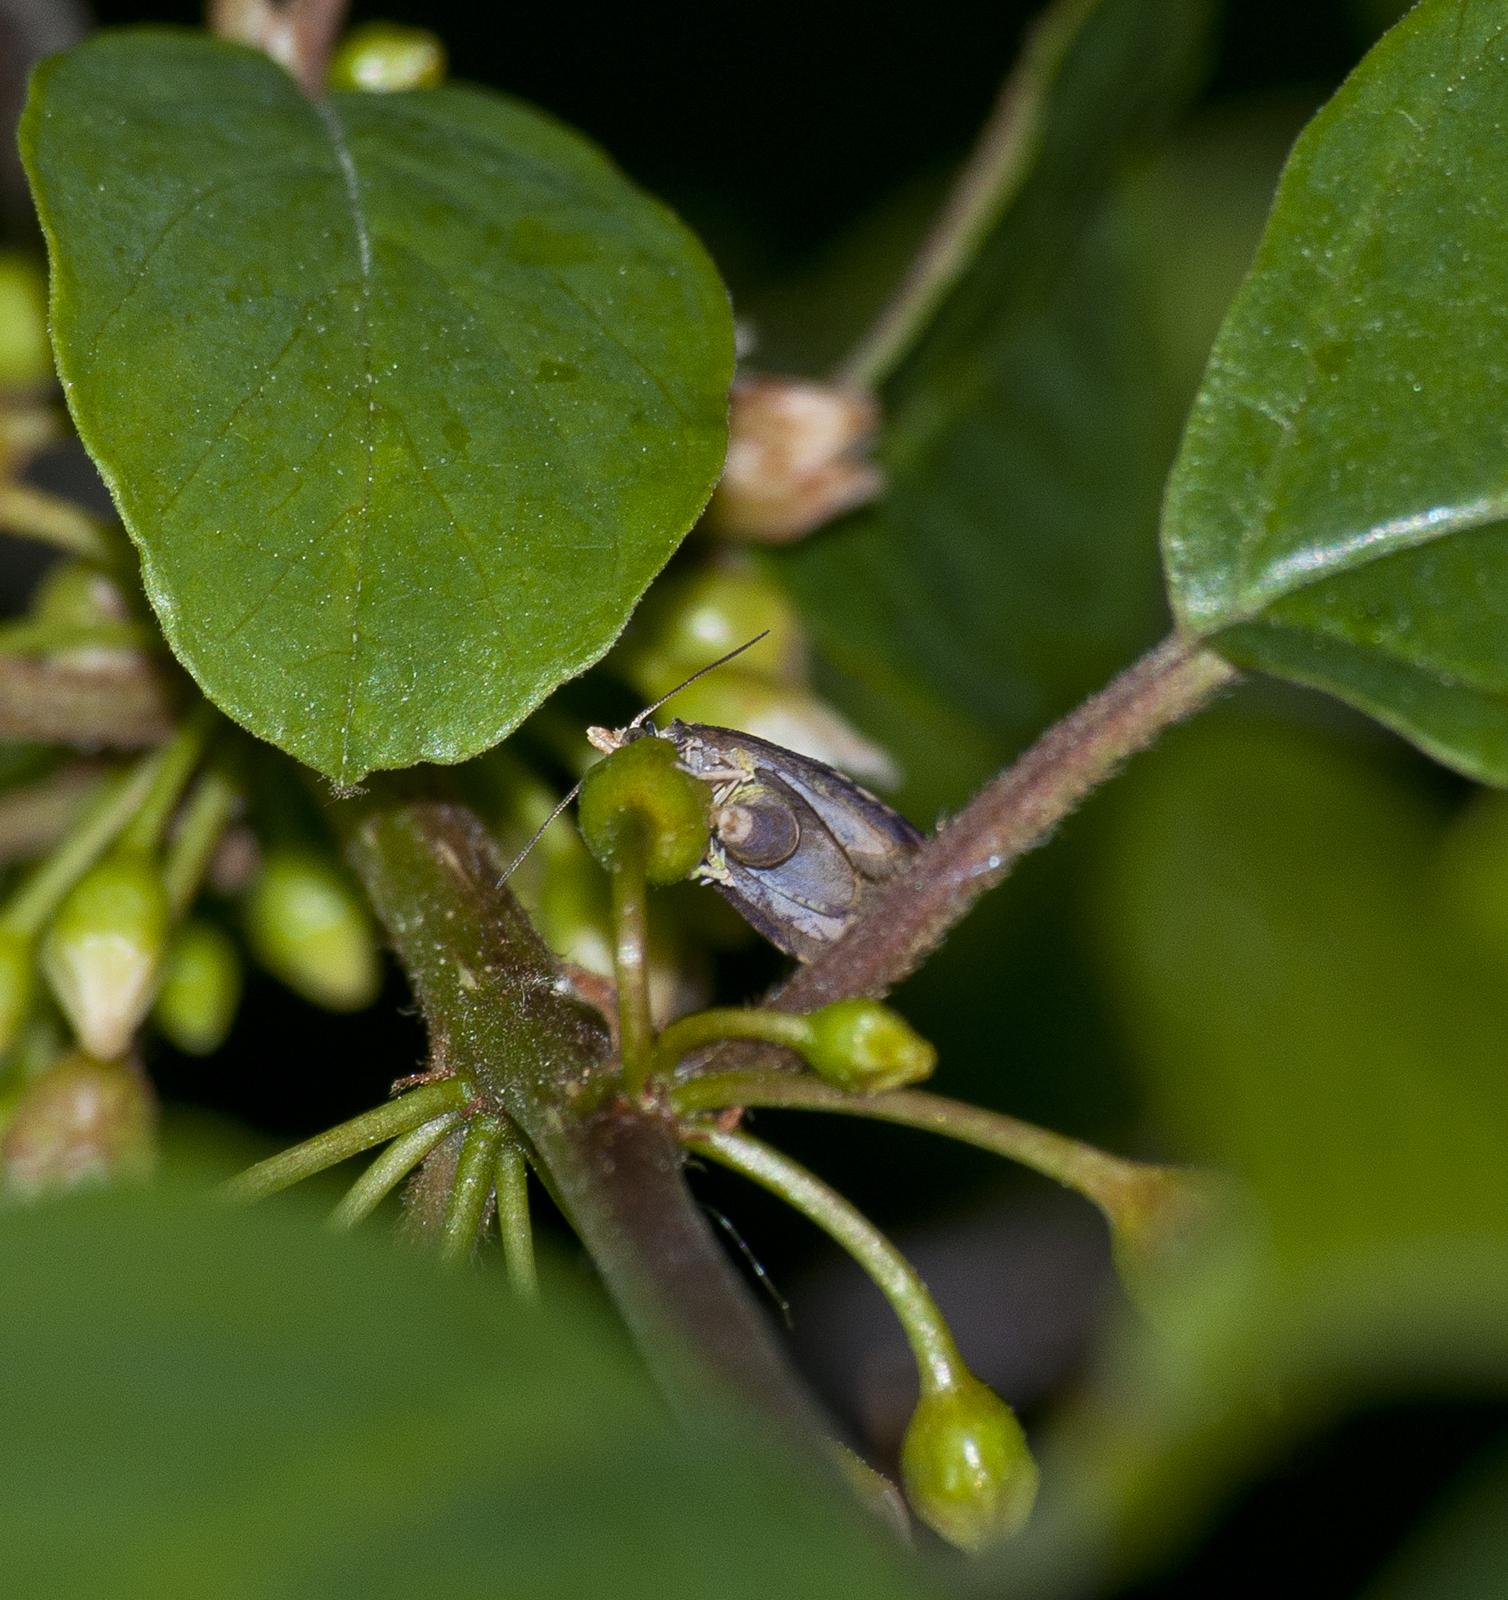Eupoecilia Ambiguella: (488, 624, 933, 975)
